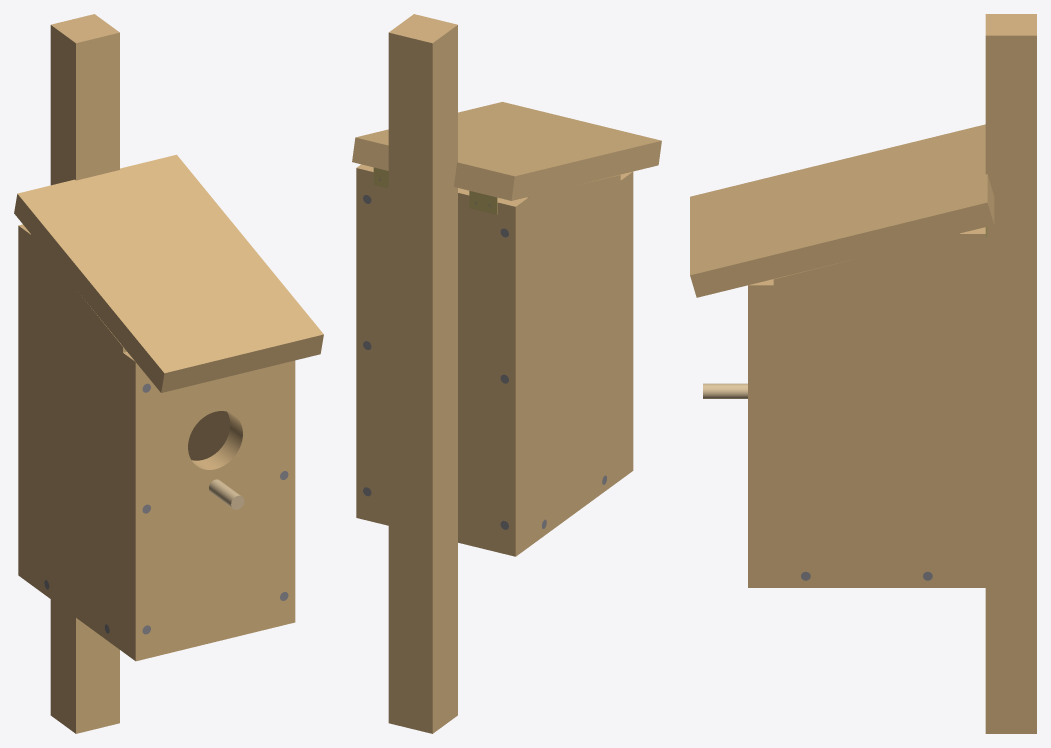
3 renders of one model, left to right at view 1: azimuth 30°, elevation 25°; view 2: azimuth 150°, elevation 25°; view 3: azimuth 270°, elevation 25°, orthographic.
Parts seen in each view (by area): view 1: front, roof, side_1, batten, back, side_2, perch; view 2: batten, back, side_1, roof, front, hw_roof_hinge_0; view 3: side_2, batten, roof, back, front, perch.
Boxes of the visible parts, x1,y1,x2,y2 form: front: (123,352,295,661); roof: (14,154,323,392); side_1: (31,234,126,651); batten: (50,14,119,733); back: (18,224,30,584); side_2: (188,411,230,460); perch: (209,479,244,509); batten: (388,14,457,733); back: (356,164,528,556); side_1: (527,175,620,547); roof: (352,102,661,200); front: (620,171,633,479); hw_roof_hinge_0: (469,191,497,214); side_2: (773,233,959,587); batten: (985,14,1036,733); roof: (690,124,994,297); back: (960,227,985,587); front: (748,279,773,587); perch: (703,383,747,398).
Size of the model in its own units: 145 by 600 by 270.
